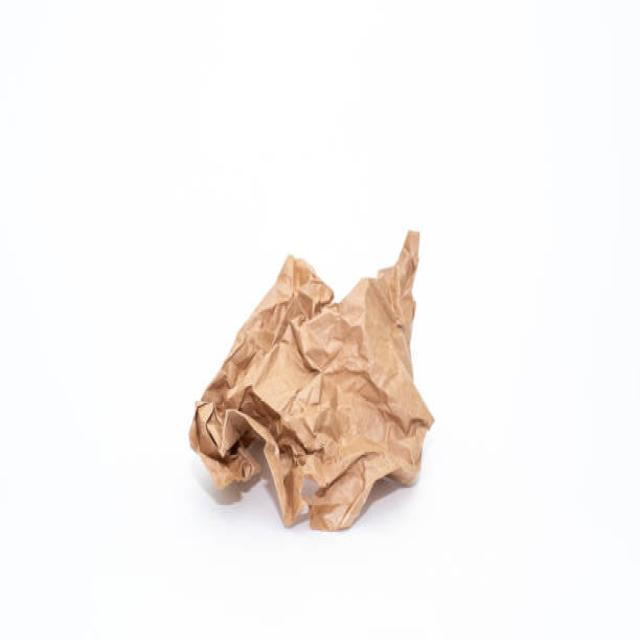electronic: (188, 227, 434, 532)
